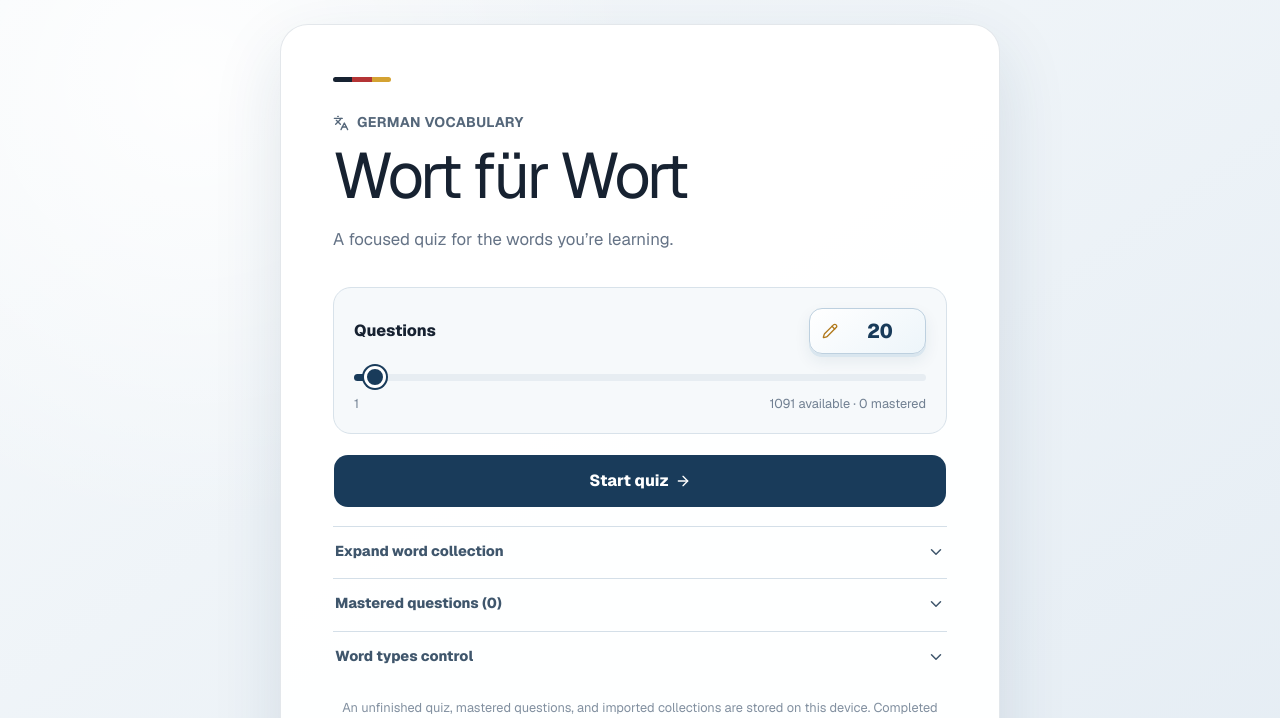
quiz interface › starts a quiz and shows progress
Click the button with test id "start-quiz" at (640, 481), box [333,454,947,508]
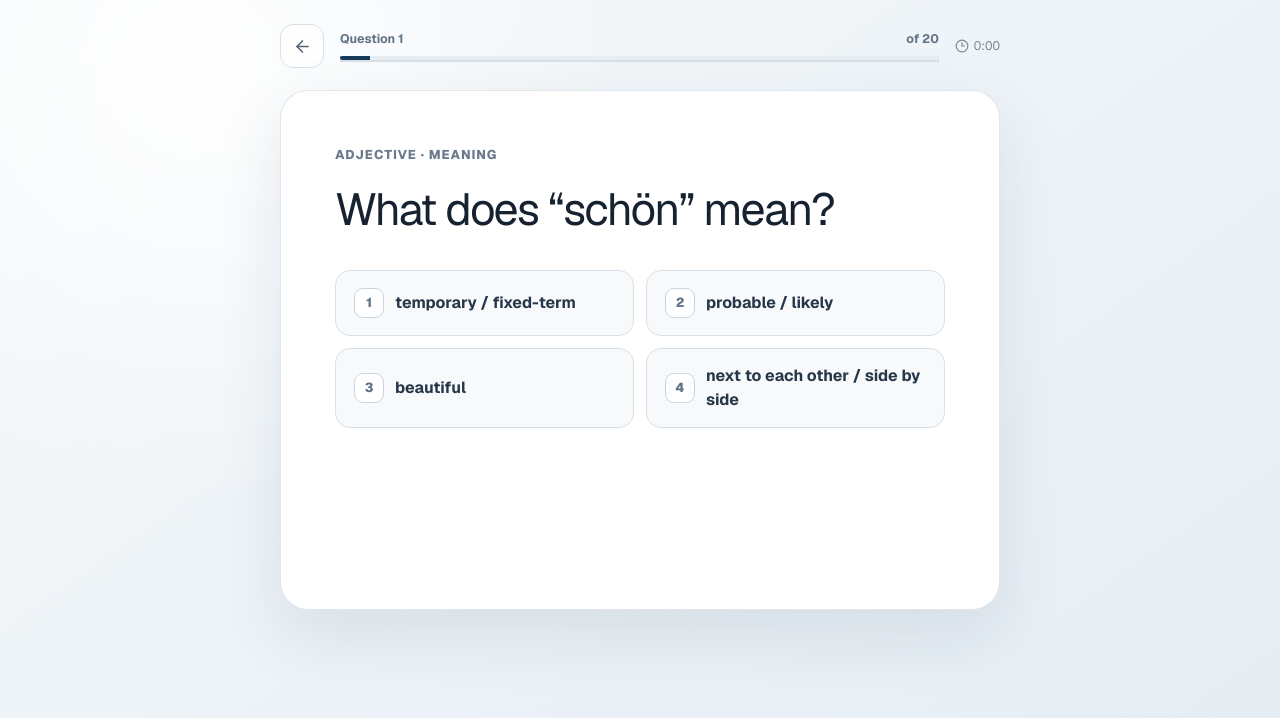
Check: the text "Question 1" is shown, box [340,30,404,48]
Check: the text "of 20" is shown, box [906,30,939,48]
